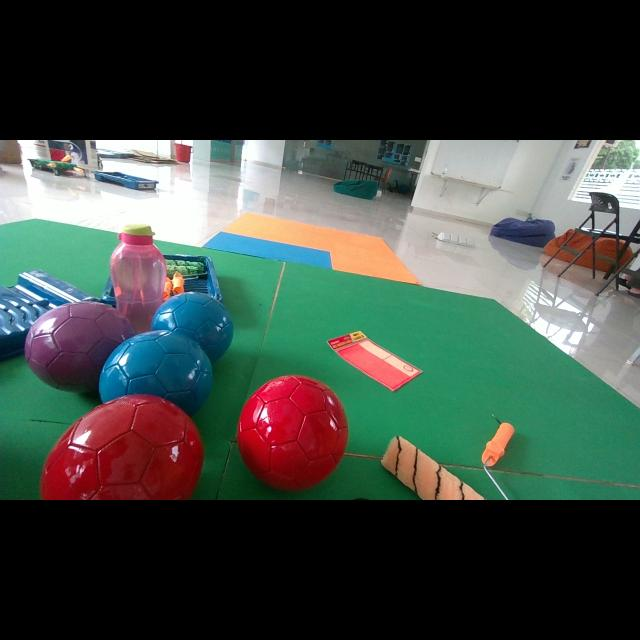B: (99, 330, 212, 414), (151, 292, 234, 362)
P: (25, 301, 135, 392)
R: (40, 395, 202, 499), (236, 375, 349, 490)
